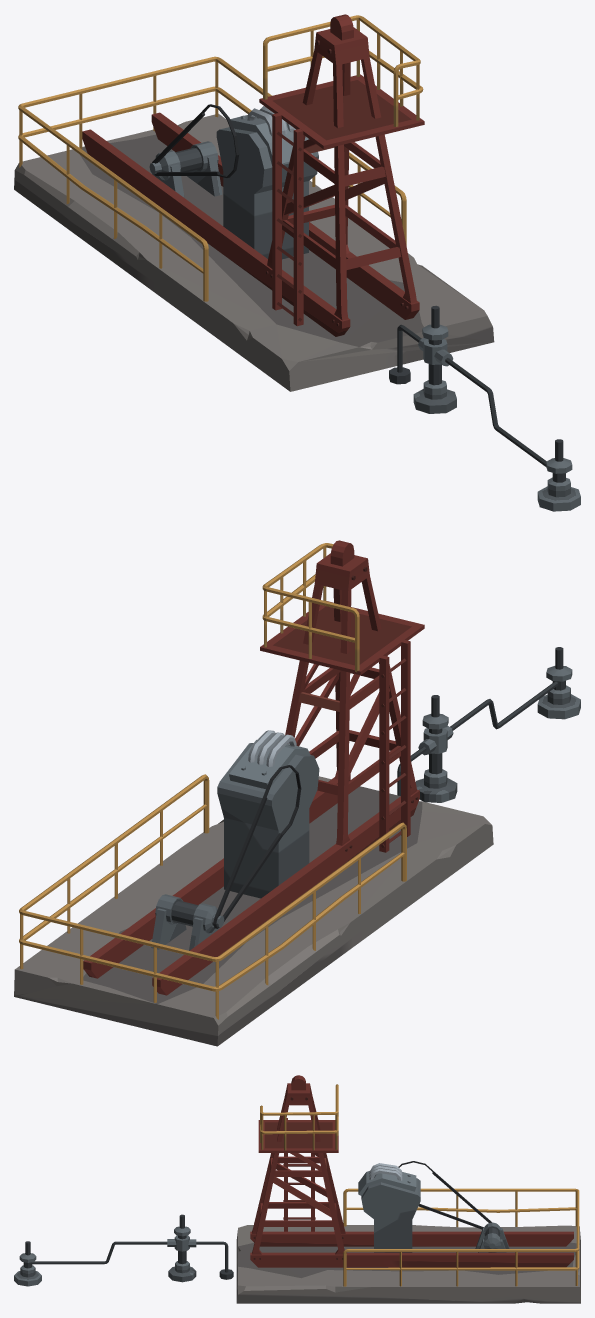
The model's file is SM_Prop_Pipline_OilPump_01.fbx.
3 renders of one model, top to bottom at view 1: azimuth 30°, elevation 25°; view 2: azimuth 150°, elevation 25°; view 3: azimuth 270°, elevation 25°, orthographic. The views are drawn at different scales.
Parts seen in each view (by area): view 1: SM_Prop_Pipline_OilPump_01; view 2: SM_Prop_Pipline_OilPump_01; view 3: SM_Prop_Pipline_OilPump_01.
Boxes of the visible parts, <box> form: SM_Prop_Pipline_OilPump_01: <box>14,14,580,511</box>; SM_Prop_Pipline_OilPump_01: <box>14,540,580,1046</box>; SM_Prop_Pipline_OilPump_01: <box>14,1075,580,1303</box>.
Size of the model in its own units: 375 by 574 by 1449.
